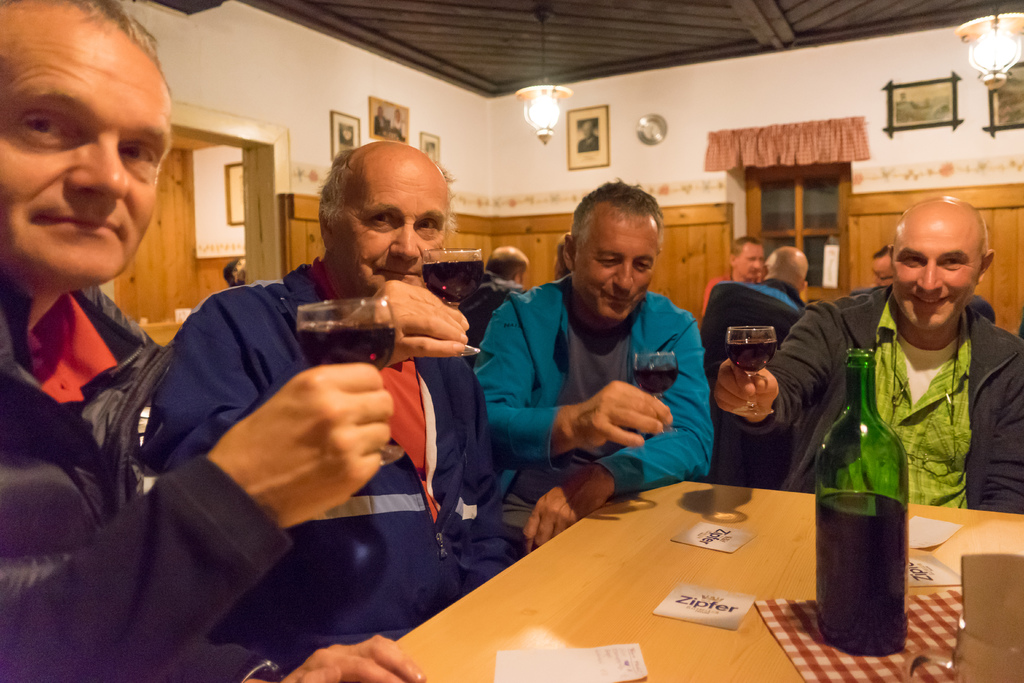Human_hand: (205, 357, 396, 531), (343, 278, 470, 370), (518, 466, 609, 557), (572, 378, 675, 452), (280, 633, 428, 682), (709, 357, 780, 422)
